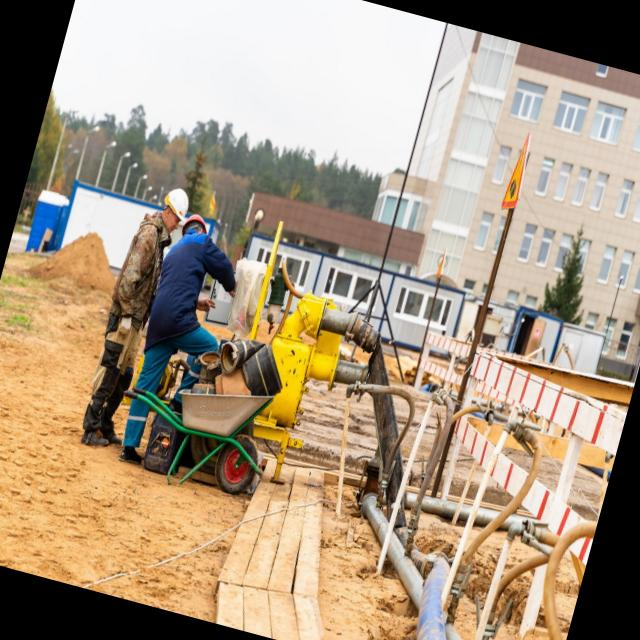Helmet: (160, 187, 193, 223), (181, 212, 211, 239)
NoJacket: (145, 230, 210, 352), (109, 218, 170, 330)
